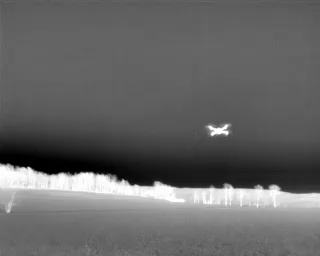DRONE: (201, 119, 235, 143)
